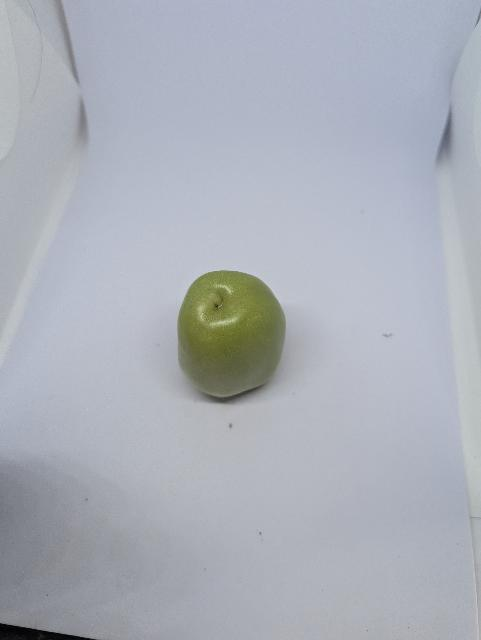green: (167, 264, 294, 405)
